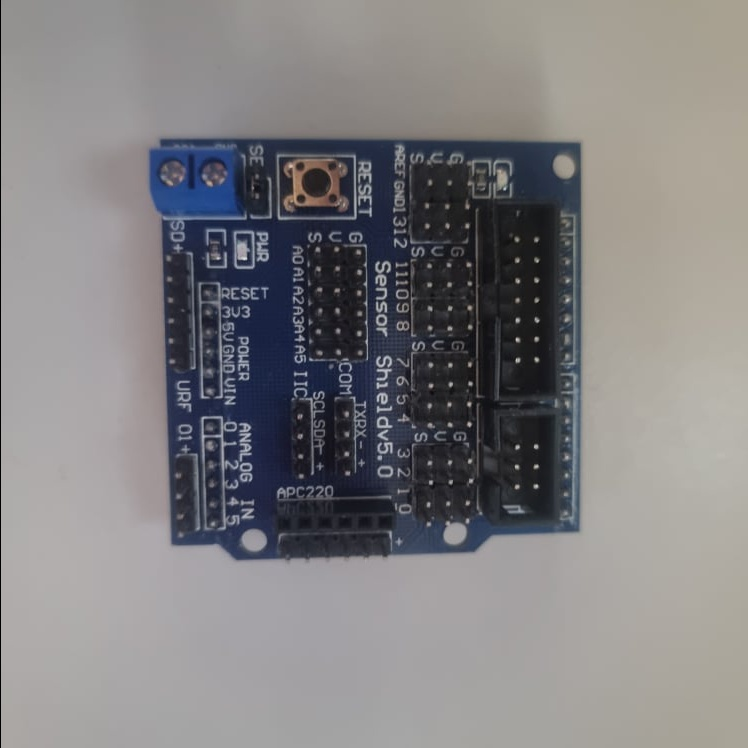5V EXPANSION: (147, 138, 582, 565)
